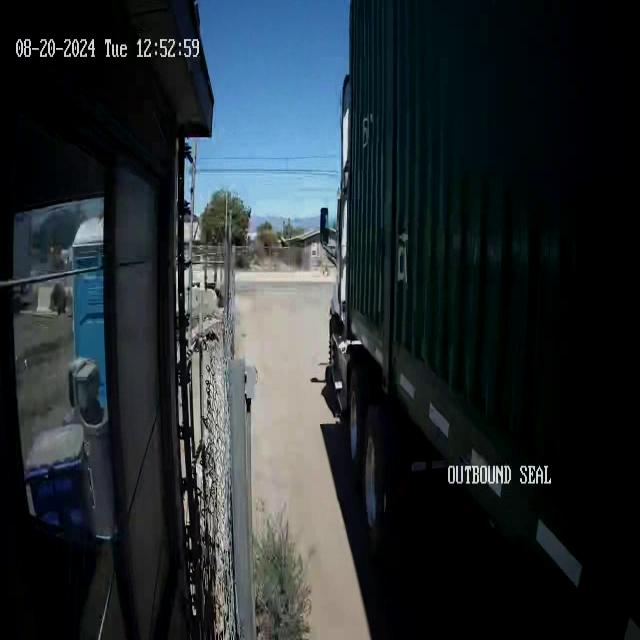CONTAINER: (345, 1, 639, 620)
